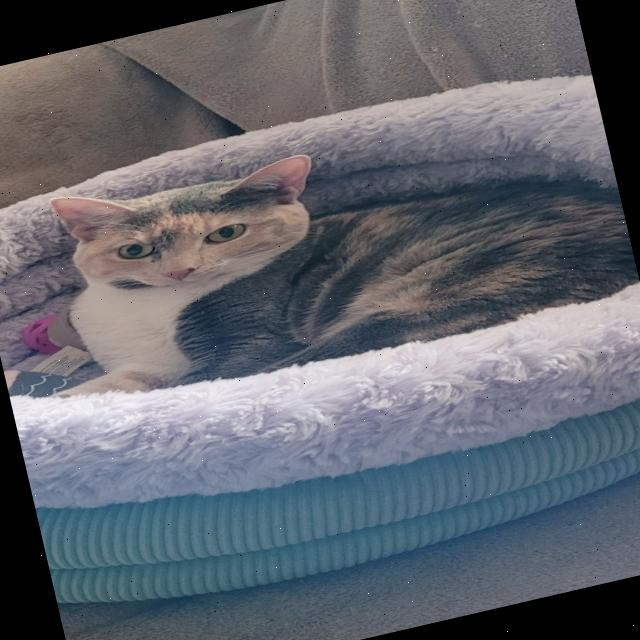calico_cat: (31, 123, 370, 339)
